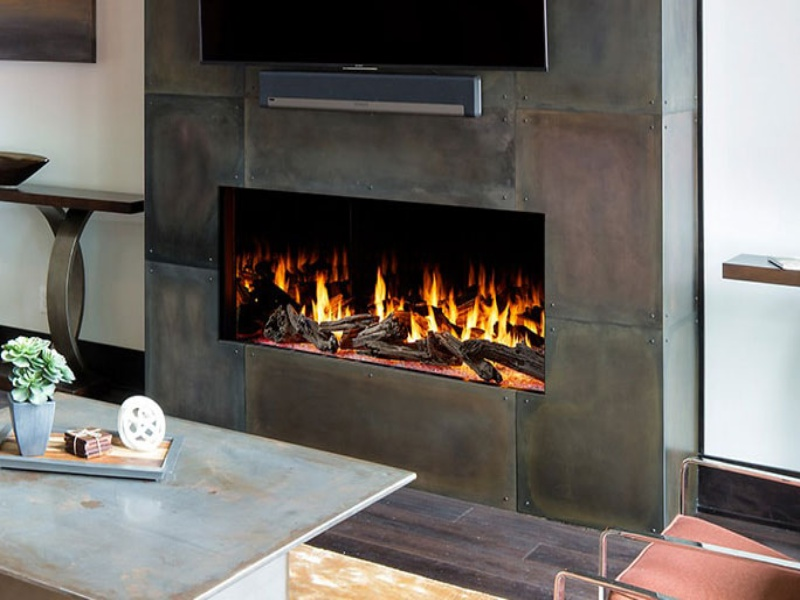fire: (277, 253, 547, 344)
